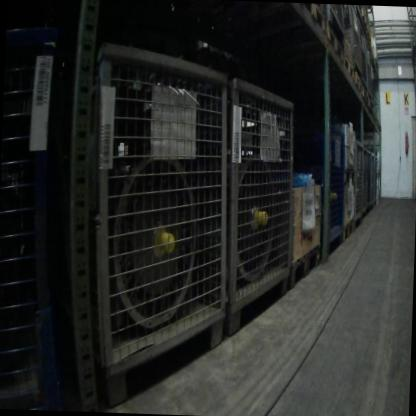pallet: (284, 245, 322, 299), (268, 5, 328, 37), (321, 25, 346, 65), (336, 47, 357, 85), (351, 67, 364, 94), (362, 93, 376, 116), (344, 218, 354, 248), (359, 6, 371, 31), (358, 82, 369, 109), (372, 52, 381, 77), (373, 113, 383, 133), (411, 40, 416, 55)
stillage: (70, 35, 238, 391), (0, 14, 68, 407), (220, 62, 300, 334), (306, 116, 349, 252), (346, 135, 366, 245), (342, 5, 365, 82), (363, 34, 377, 103), (325, 5, 348, 46), (359, 25, 369, 91), (362, 146, 371, 217), (368, 150, 375, 214), (372, 151, 380, 207)
